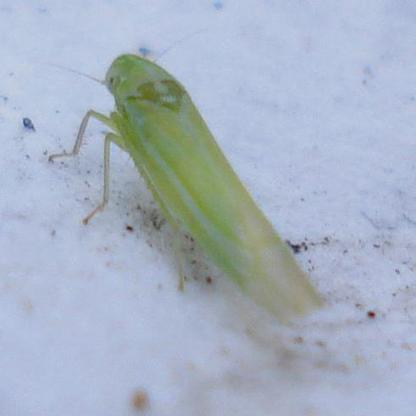green-leafhopper: (92, 47, 325, 316)
